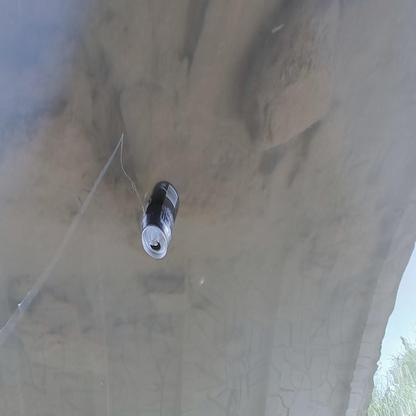can: (141, 181, 180, 260)
